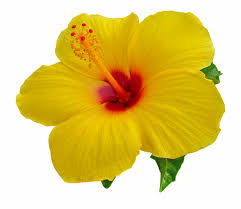hybiscus: (16, 10, 227, 182)
